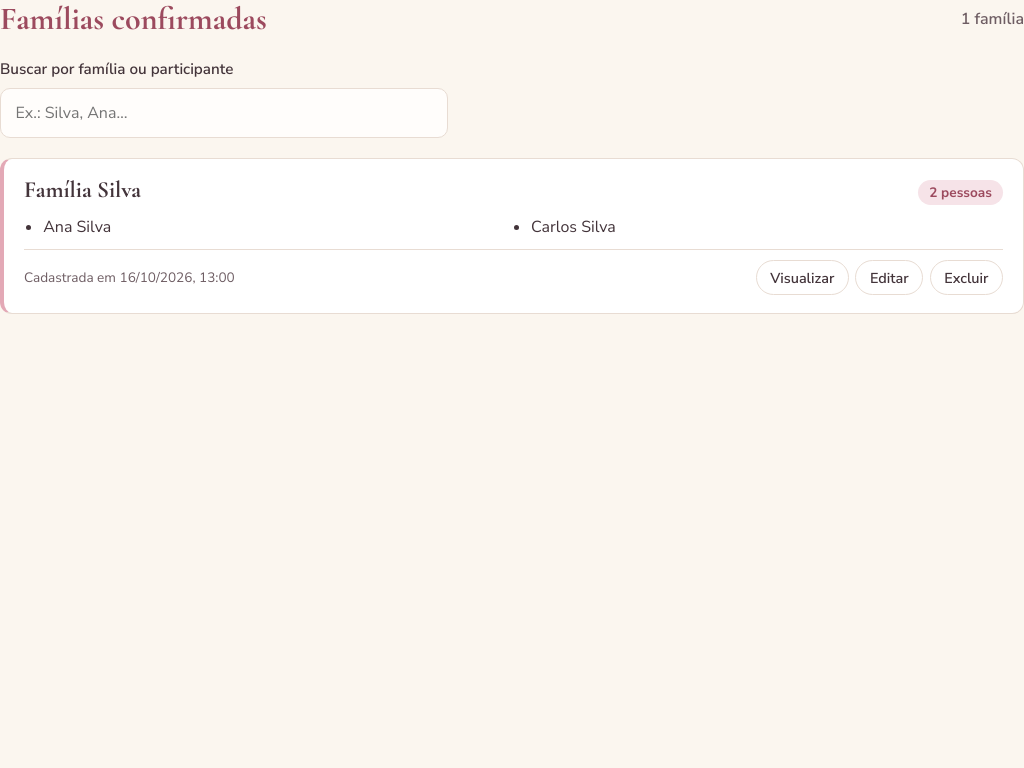
Test case: FamiliasPage › lista famílias com integrantes e exclui após confirmação, atualizando a lista
Check: the text "2 pessoas" is shown, box x1=918 y1=180 x2=1003 y2=205
Check: the list item "Carlos Silva" is shown, box x1=531 y1=216 x2=616 y2=238
Click the button "Excluir".
click(966, 278)  # box x1=930 y1=260 x2=1003 y2=296
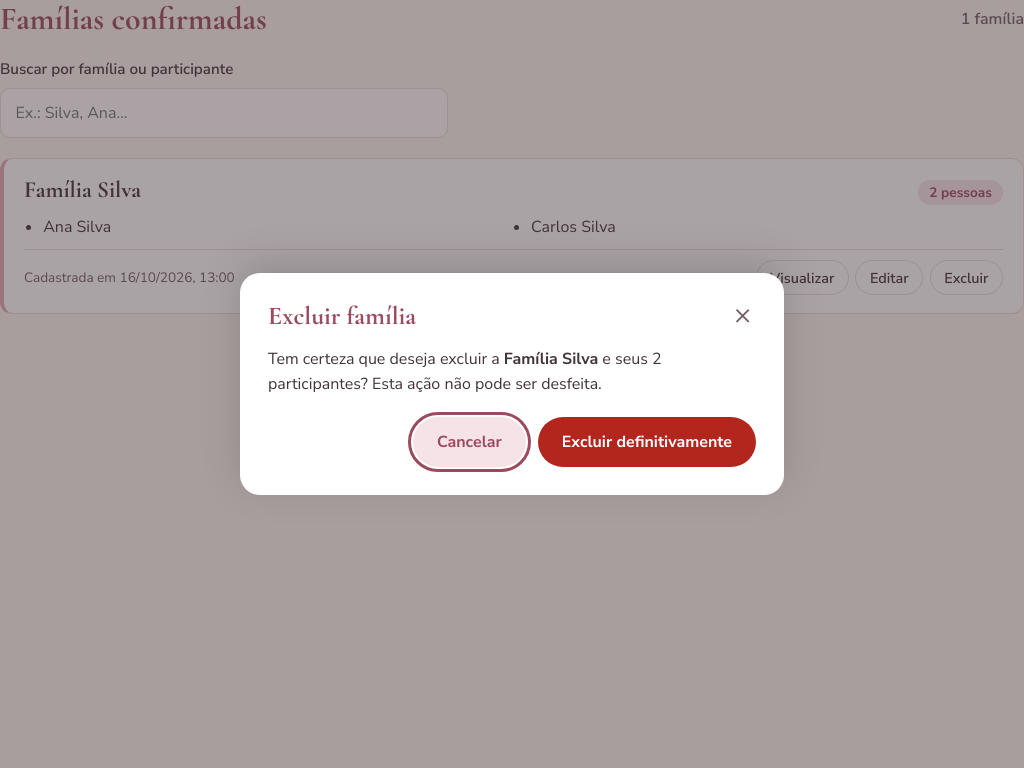
Check: the dialog "Excluir família" shows "Esta ação não pode ser desfeita", box x1=361 y1=373 x2=602 y2=395
Click the button "Excluir definitivamente".
click(647, 442)  # box x1=538 y1=417 x2=756 y2=467
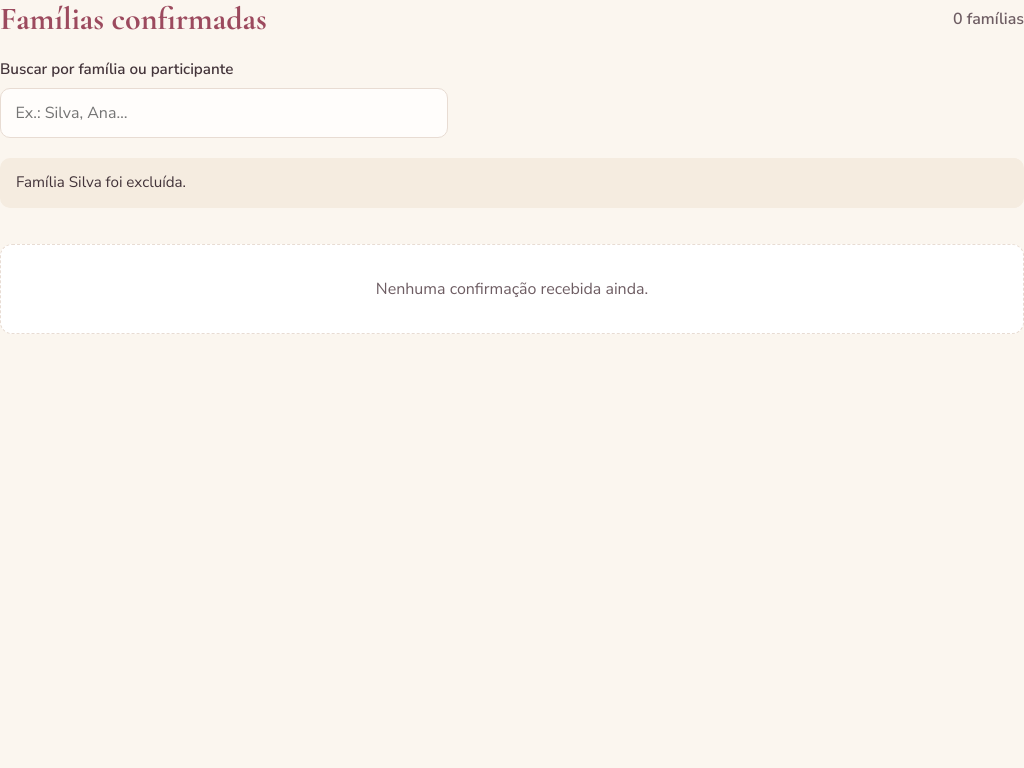
Check: the text "Família Silva foi excluída." is shown, box x1=0 y1=158 x2=1023 y2=208
Check: the text "Nenhuma confirmação recebida ainda." is shown, box x1=0 y1=244 x2=1023 y2=334
